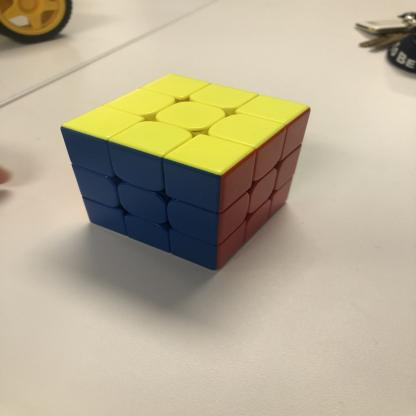SolvedCube: (50, 69, 321, 275)
